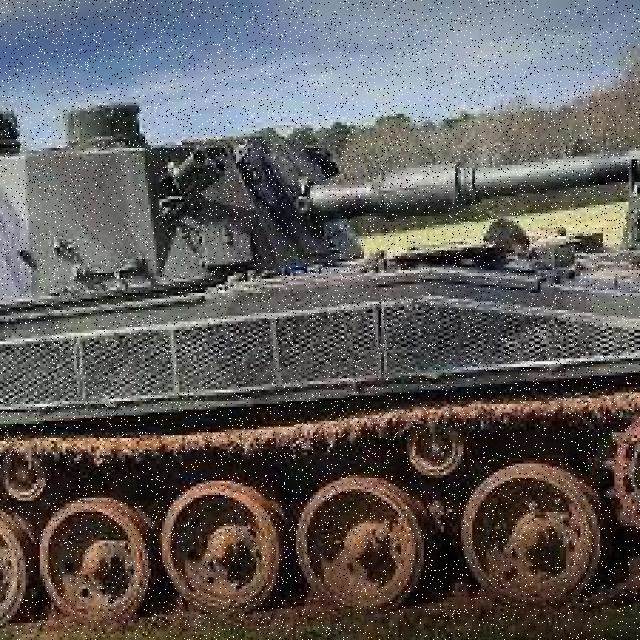MIL_MBT: (5, 101, 633, 607)
